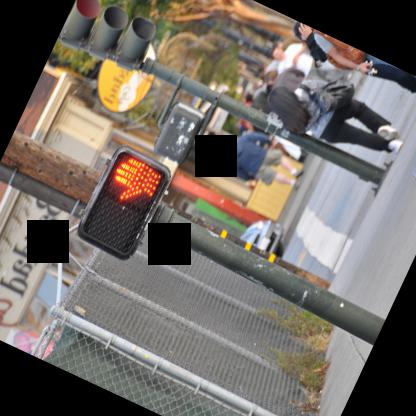handbag: (315, 29, 366, 70), (298, 77, 356, 113)
